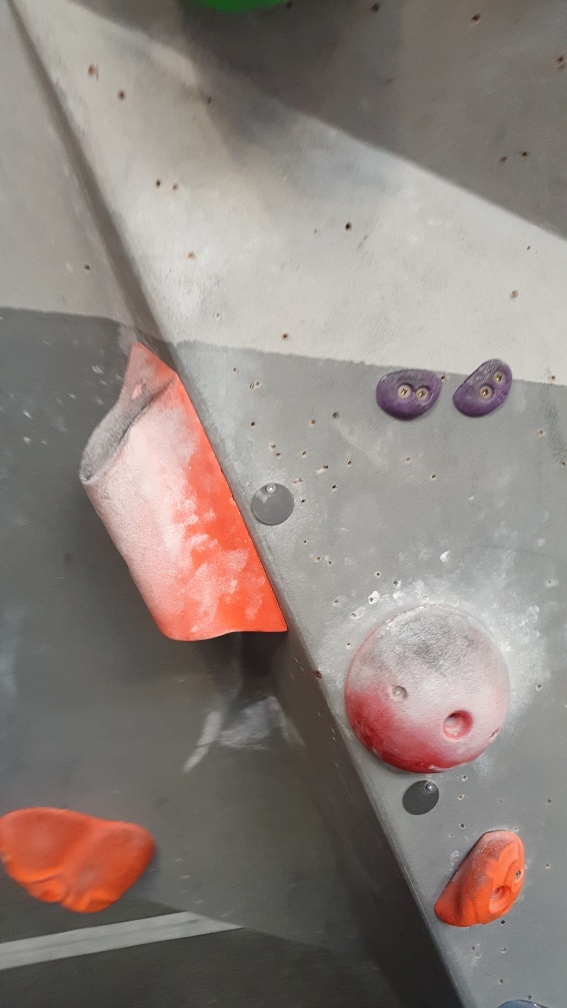Hand Start: (248, 481, 297, 528), (401, 778, 444, 821)
Pinch: (76, 341, 294, 645), (370, 367, 442, 422), (455, 359, 515, 421)
Sloper: (342, 603, 517, 771)
